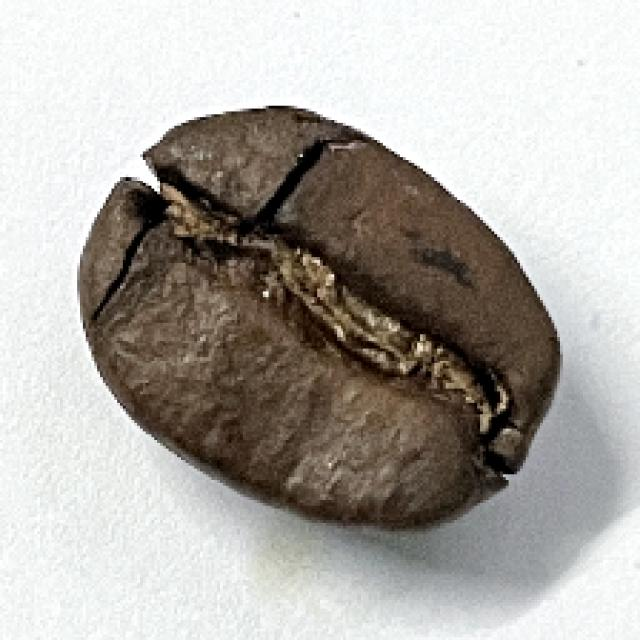bean: (76, 105, 564, 532)
